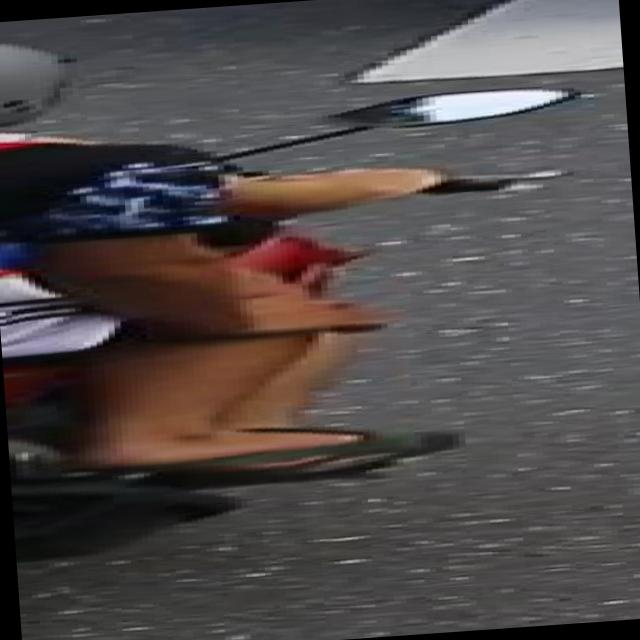helmet: (0, 30, 82, 149)
